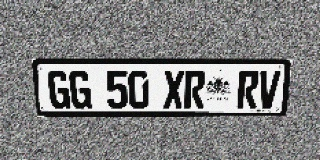0: (128, 70, 149, 109)
5: (106, 70, 128, 109)
G: (47, 70, 71, 109), (69, 70, 92, 109)
R: (237, 70, 260, 108), (184, 70, 206, 109)
V: (257, 70, 281, 108)
X: (163, 70, 184, 109)
